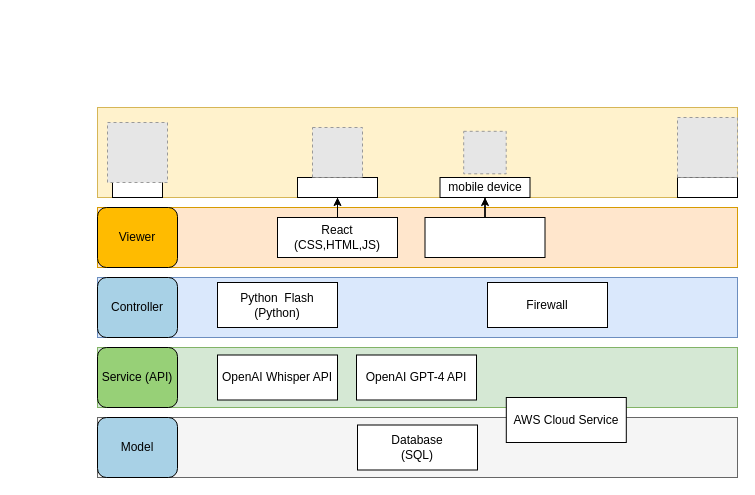
Image size: 755x495. Some labels were removed from this diagram. Grey dashed boxes stand in for pictures. The box of each missing label's shape, as (x1, y1, x2, y2) in pixels:
APP （React Native）: (424, 216, 545, 258)
computer: (296, 176, 378, 198)
Student: (112, 176, 162, 198)
Teacher: (676, 176, 738, 198)
